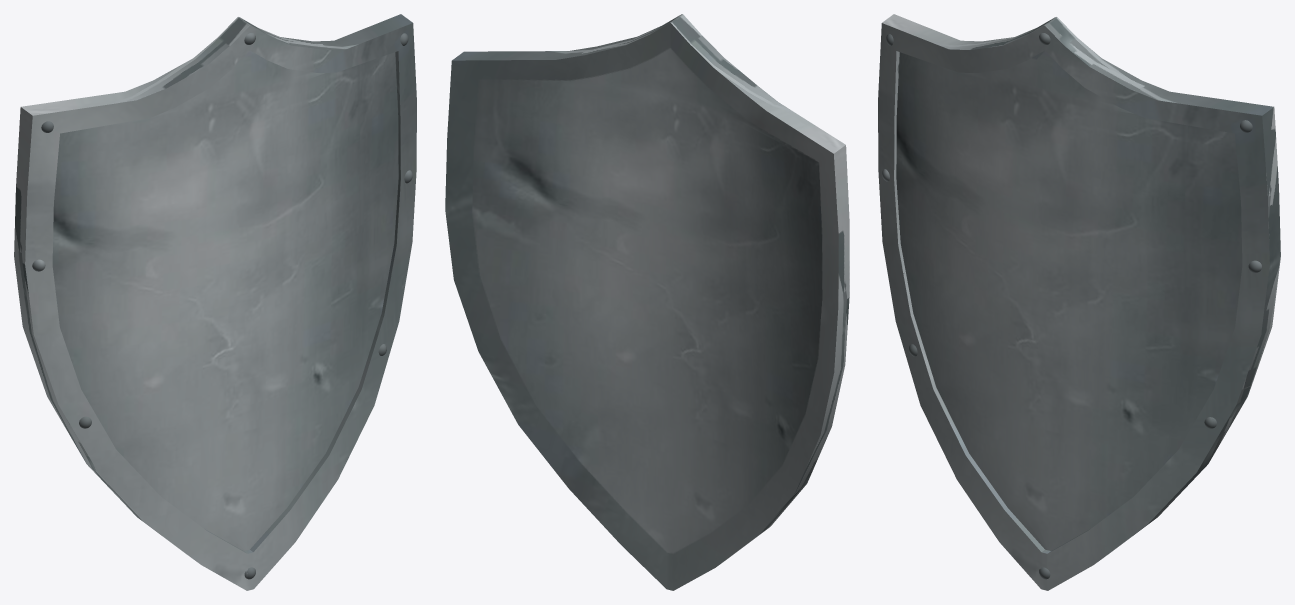
The model's file is Shield.fbx.
3 renders of one model, left to right at view 1: azimuth 30°, elevation 25°; view 2: azimuth 150°, elevation 25°; view 3: azimuth 330°, elevation 25°, orthographic.
Parts seen in each view (by area): view 1: Shield; view 2: Shield; view 3: Shield.
Part boxes in pixels (box(x1,y1,x2,y2)): Shield: box(14, 14, 416, 590); Shield: box(445, 14, 849, 590); Shield: box(878, 14, 1280, 590).
Size of the model in its own units: 84.23 by 116 by 15.71.
2 materials, 2 textured.
